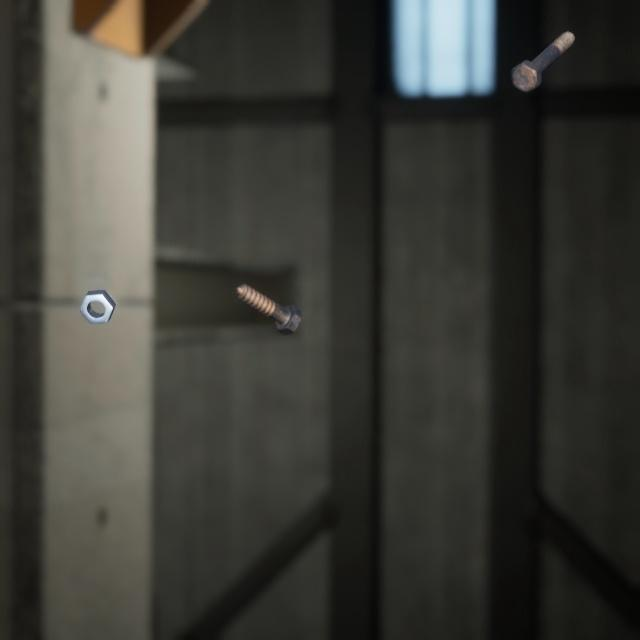bolt: (506, 17, 579, 87), (232, 261, 306, 321)
nut: (75, 268, 121, 311)
